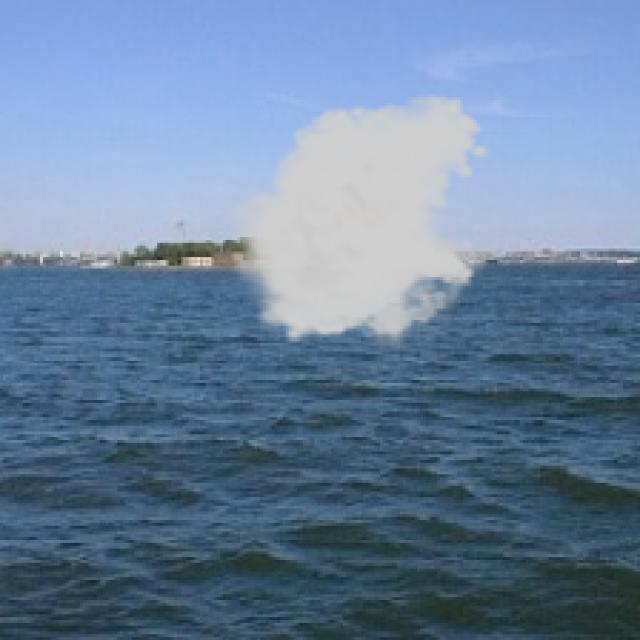Smoke: (219, 91, 492, 358)
